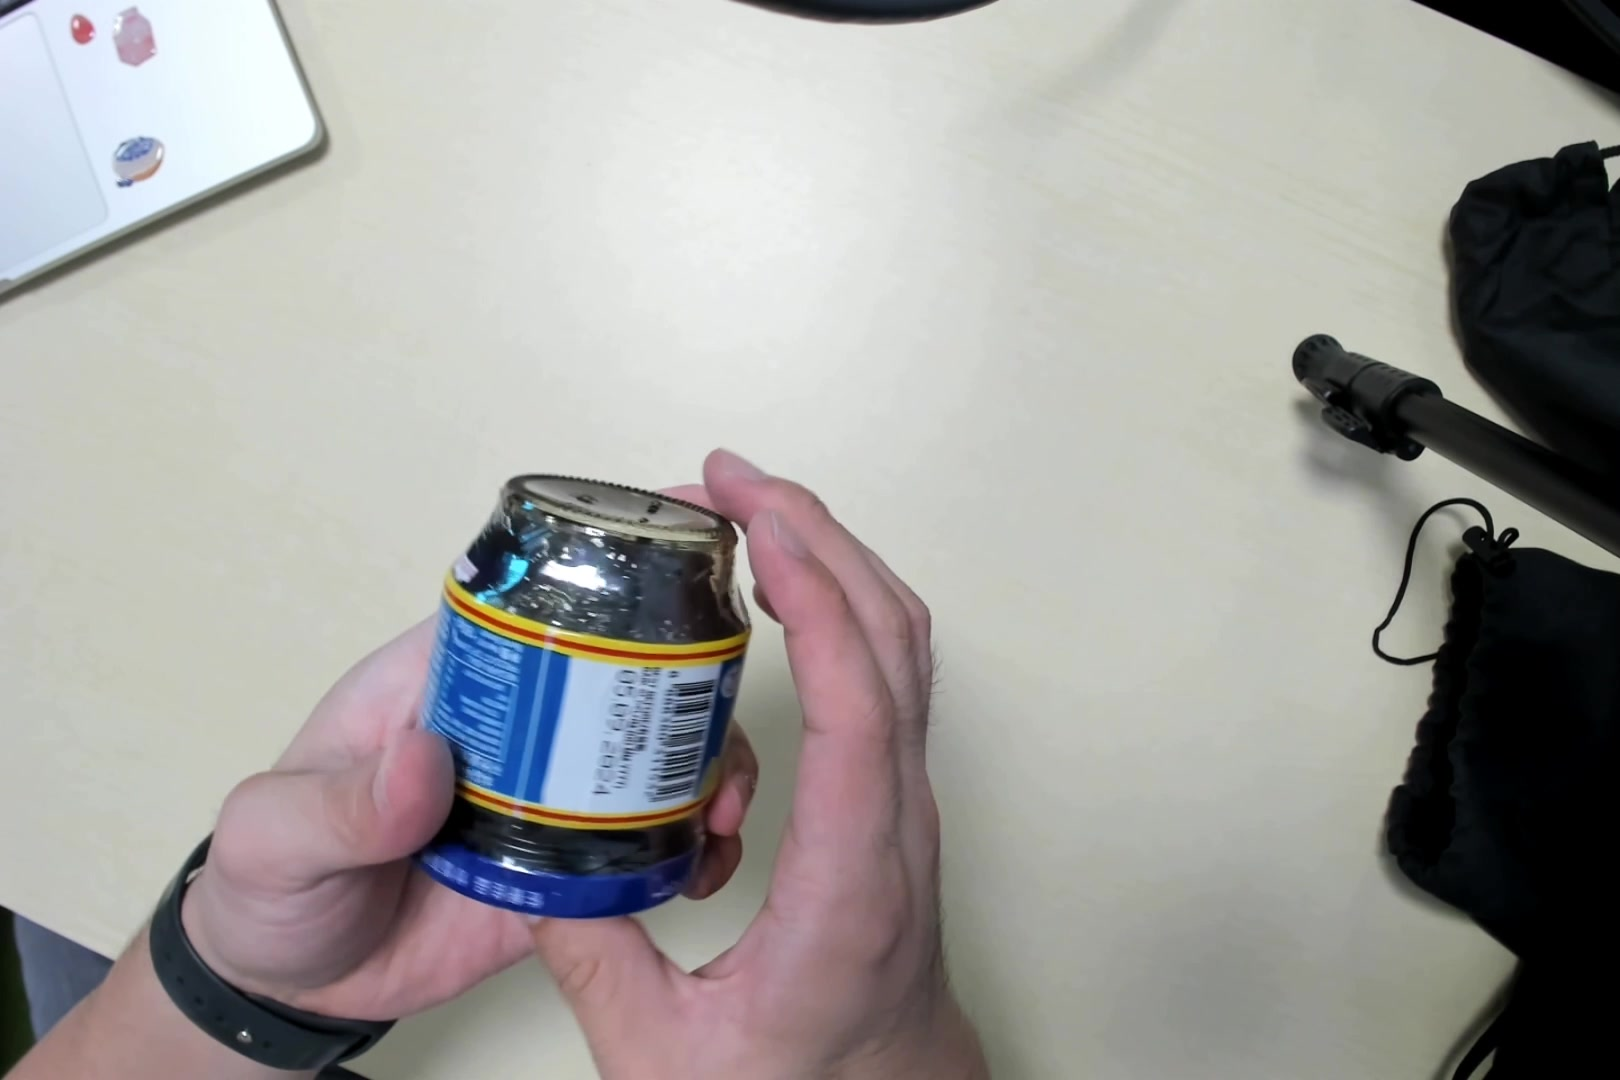CannedPickles_100-199g_NonHalal_NonHealthy: (406, 472, 739, 917)
